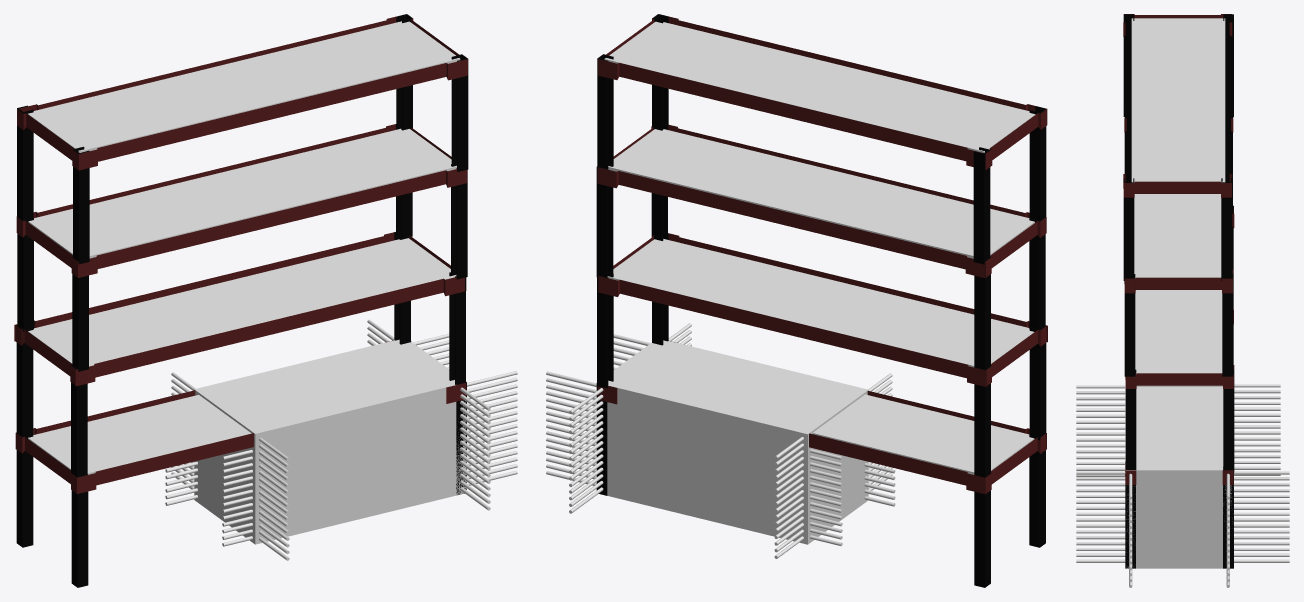
Rendered from rakk.fbx.
3 views of the same model, side by side, from view 1: azimuth 30°, elevation 25°; view 2: azimuth 150°, elevation 25°; view 3: azimuth 270°, elevation 25° (orthographic). The views are drawn at different scales.
Parts seen in each view (by area): view 1: Template, Cube.019, Cube.014, Cube.009, Cube.004, Plane.013, Plane.005, Plane.009, Plane.001, Cylinder.024, Plane.004, Cylinder.003 (+24 smaller); view 2: Template, Cube.019, Cube.014, Cube.009, Cube.004, Plane.004, Plane.008, Plane.012, Plane, Cylinder.005, Cylinder.004, Cylinder.007 (+25 smaller); view 3: Template, Cube.019, Cube.009, Cube.014, Cylinder.005, Cylinder.003, Cylinder.002, Cylinder.007, Plane.011, Plane.015, Plane.007, Cube.012 (+15 smaller).
Part boxes in pixels (x1,y1,x2,y2): Template: [194, 339, 466, 544]; Cube.019: [28, 21, 460, 152]; Cube.014: [28, 128, 456, 258]; Cube.009: [28, 238, 456, 366]; Cube.004: [28, 395, 251, 474]; Plane.013: [78, 59, 467, 170]; Plane.005: [75, 277, 464, 386]; Plane.009: [78, 169, 467, 277]; Plane.001: [77, 383, 466, 493]; Cylinder.024: [467, 371, 517, 485]; Plane.004: [14, 232, 394, 341]; Cylinder.003: [460, 387, 490, 510]; Template: [607, 340, 868, 544]; Cube.019: [604, 21, 1035, 152]; Cube.014: [608, 129, 1034, 258]; Cube.009: [607, 239, 1034, 367]; Cube.004: [812, 394, 1034, 474]; Plane.004: [598, 276, 986, 386]; Plane.008: [597, 167, 985, 277]; Plane.012: [598, 59, 985, 169]; Plane: [597, 386, 985, 494]; Cylinder.005: [569, 388, 603, 513]; Cylinder.004: [546, 371, 596, 485]; Cylinder.007: [774, 437, 803, 558]; Template: [1125, 380, 1233, 568]; Cube.019: [1131, 18, 1225, 182]; Cube.009: [1135, 290, 1222, 386]; Cube.014: [1134, 194, 1221, 278]; Cylinder.005: [1234, 471, 1289, 562]; Cylinder.003: [1076, 471, 1125, 562]; Cylinder.002: [1076, 385, 1125, 476]; Cylinder.007: [1234, 384, 1280, 475]; Plane.011: [1124, 277, 1232, 293]; Plane.015: [1123, 181, 1231, 197]; Plane.007: [1125, 373, 1233, 388]; Cube.012: [1222, 274, 1233, 376].
Size of the model in its own units: 420 by 393 by 197.
